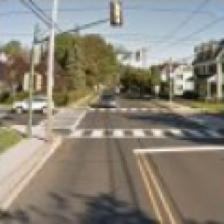crosswalk: (60, 111, 222, 154)
